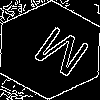M: (25, 25, 93, 86)
